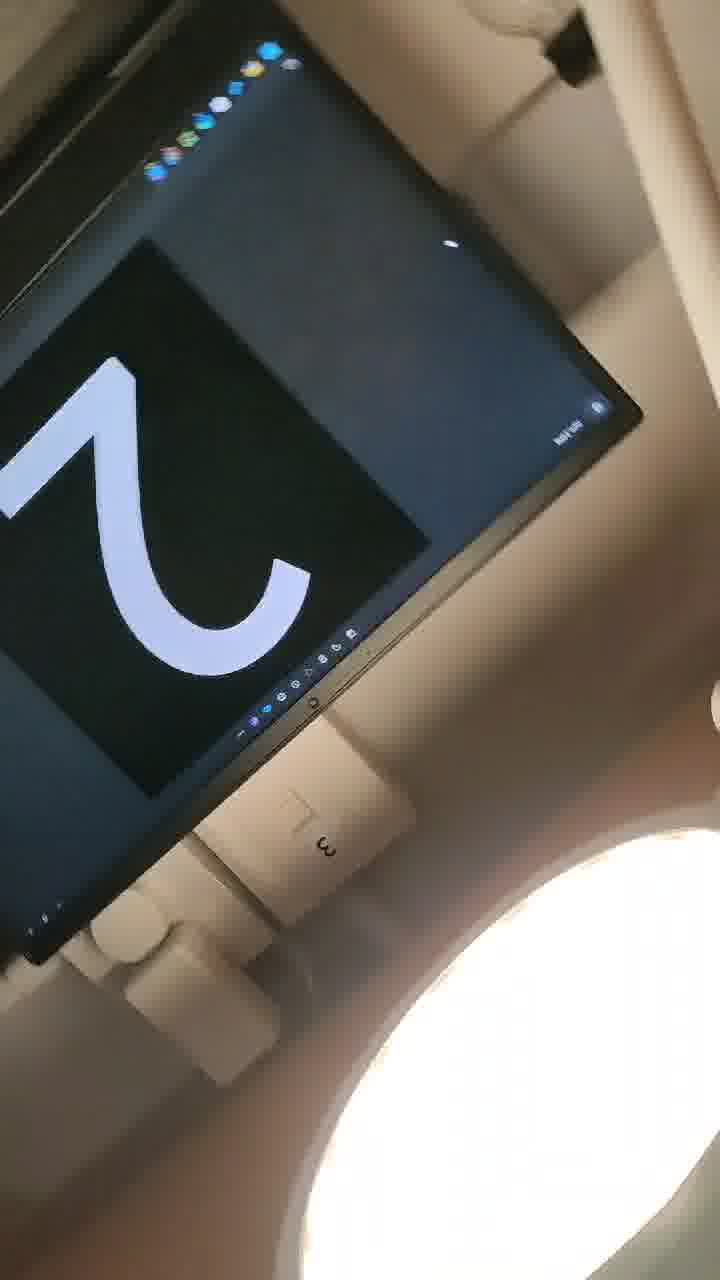two: (5, 312, 370, 734)
